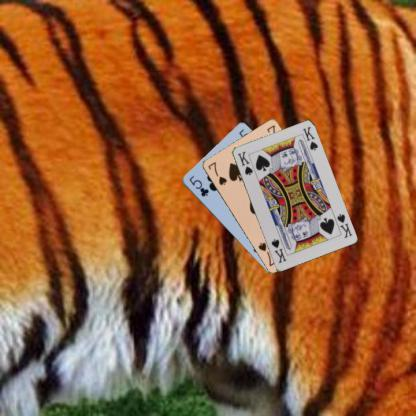5c: (186, 172, 209, 198)
7s: (205, 160, 228, 186)
Ks: (334, 210, 353, 240), (235, 148, 254, 177)
